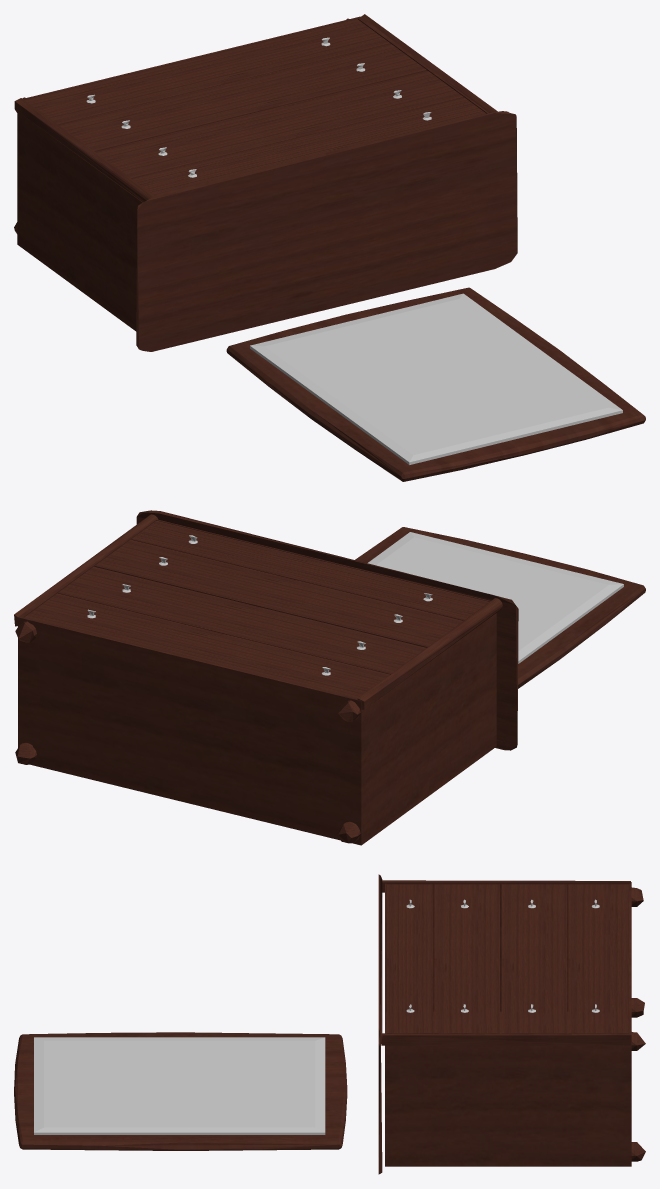
The model's file is dresserwmirror_wtf.obj.
3 views of the same model, one above another, from view 1: azimuth 30°, elevation 25°; view 2: azimuth 150°, elevation 25°; view 3: azimuth 270°, elevation 25° (orthographic). The views are drawn at different scales.
Visible parts, largest first — view 1: group2, group4, group5; view 2: group2, group4, group5, group3; view 3: group2, group4, group5.
Boxes of the visible parts, x1=… form: group2: x1=14, y1=14, x2=517, y2=351; group4: x1=250, y1=293, x2=622, y2=464; group5: x1=226, y1=287, x2=645, y2=481; group2: x1=14, y1=510, x2=518, y2=845; group4: x1=367, y1=532, x2=623, y2=663; group5: x1=355, y1=527, x2=645, y2=688; group3: x1=87, y1=535, x2=432, y2=675; group2: x1=378, y1=874, x2=645, y2=1174; group4: x1=34, y1=1037, x2=325, y2=1134; group5: x1=14, y1=1032, x2=347, y2=1150.
Bounding box in the file's own units: 419 × 164 × 660.
